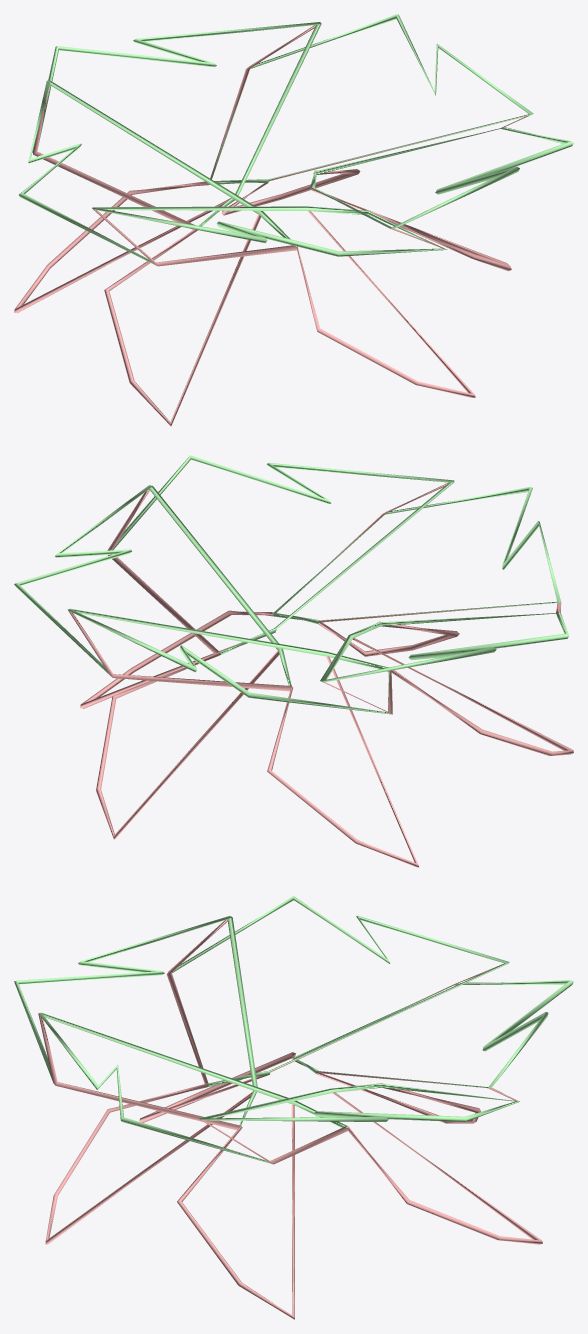
The model's file is MapH1.glb.
The picture shows the model from 3 angles, top to bottom: view 1: azimuth 30°, elevation 25°; view 2: azimuth 150°, elevation 25°; view 3: azimuth 270°, elevation 25°; orthographic projection.
Parts seen in each view (by area): view 1: RegularMap_H; view 2: RegularMap_H; view 3: RegularMap_H.
Boxes of the visible parts, x1,y1,x2,y2 form: RegularMap_H: (14,14,573,426); RegularMap_H: (14,455,573,867); RegularMap_H: (14,896,573,1319).
Size of the model in its own units: 3.06 by 1.18 by 3.08.
